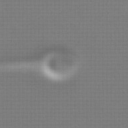normal: (1, 57, 43, 77)
